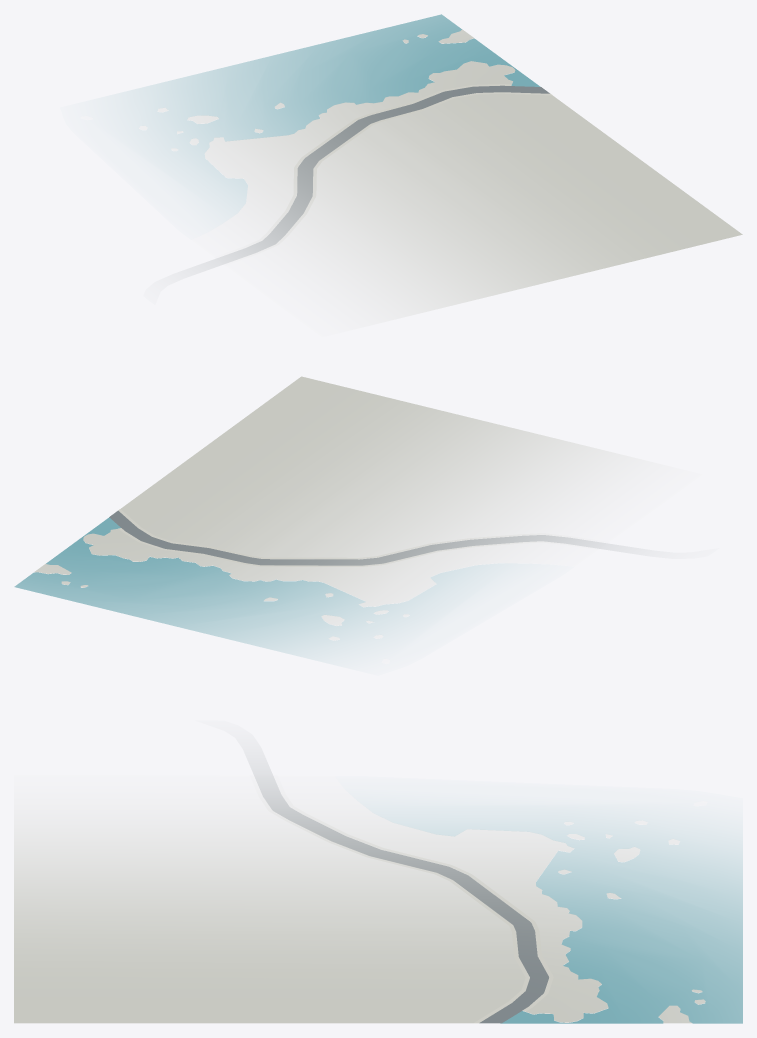
3 views of the same model, one above another, from view 1: azimuth 30°, elevation 25°; view 2: azimuth 150°, elevation 25°; view 3: azimuth 270°, elevation 25° (orthographic). The views are drawn at different scales.
Parts seen in each view (by area): view 1: city; view 2: city; view 3: city.
Boxes of the visible parts, left/top/right/bottom form: city: left=129, top=14, right=742, bottom=321; city: left=14, top=376, right=642, bottom=658; city: left=14, top=765, right=742, bottom=1023.
Bounding box in the file's own units: 500 × 0.4 × 500.
